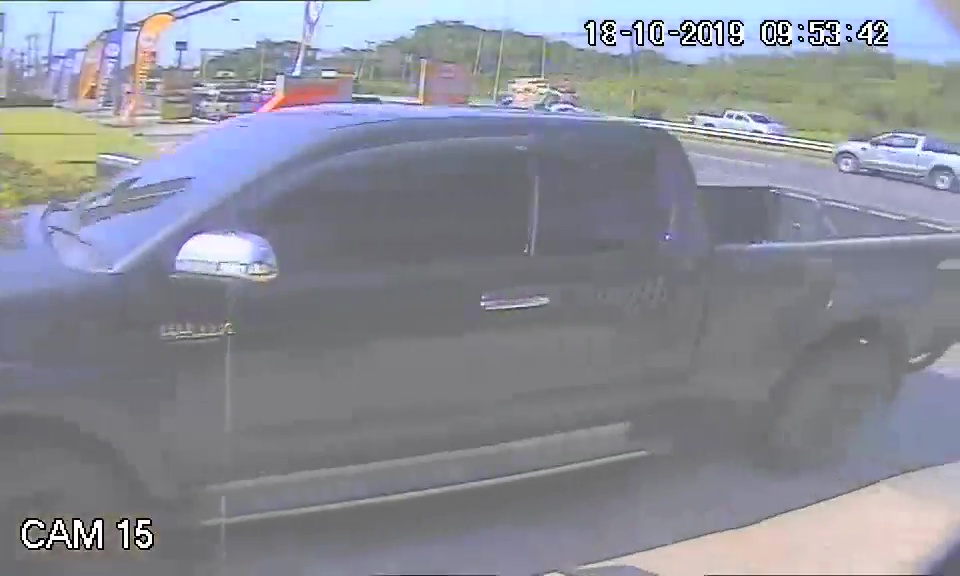pickup: (2, 106, 960, 497)
